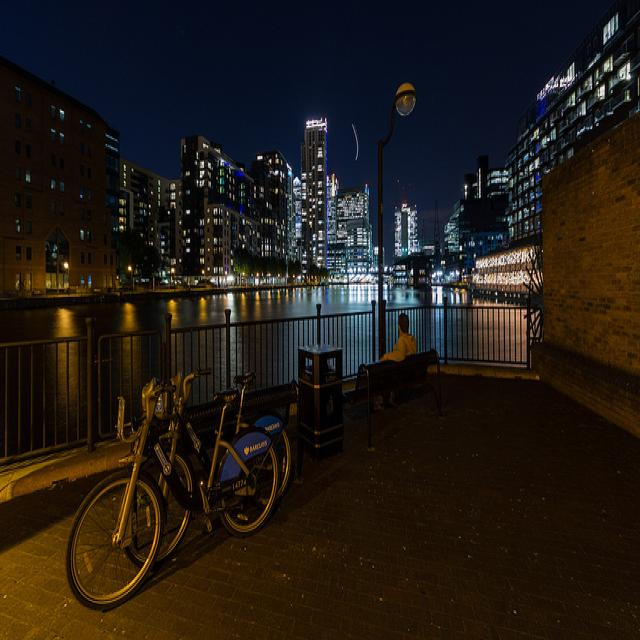Bicycle: (73, 417, 272, 606), (135, 352, 297, 518)
People: (393, 296, 415, 369)
chair: (347, 338, 461, 458)
